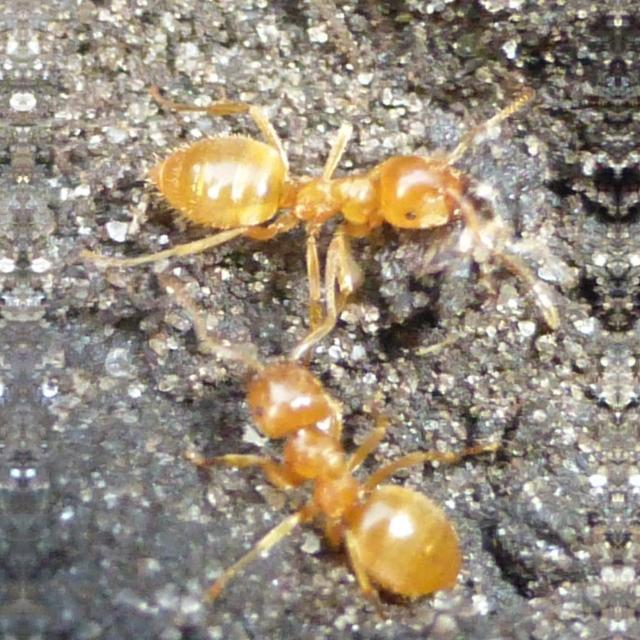Lasius: (98, 43, 554, 324), (202, 346, 514, 604)
